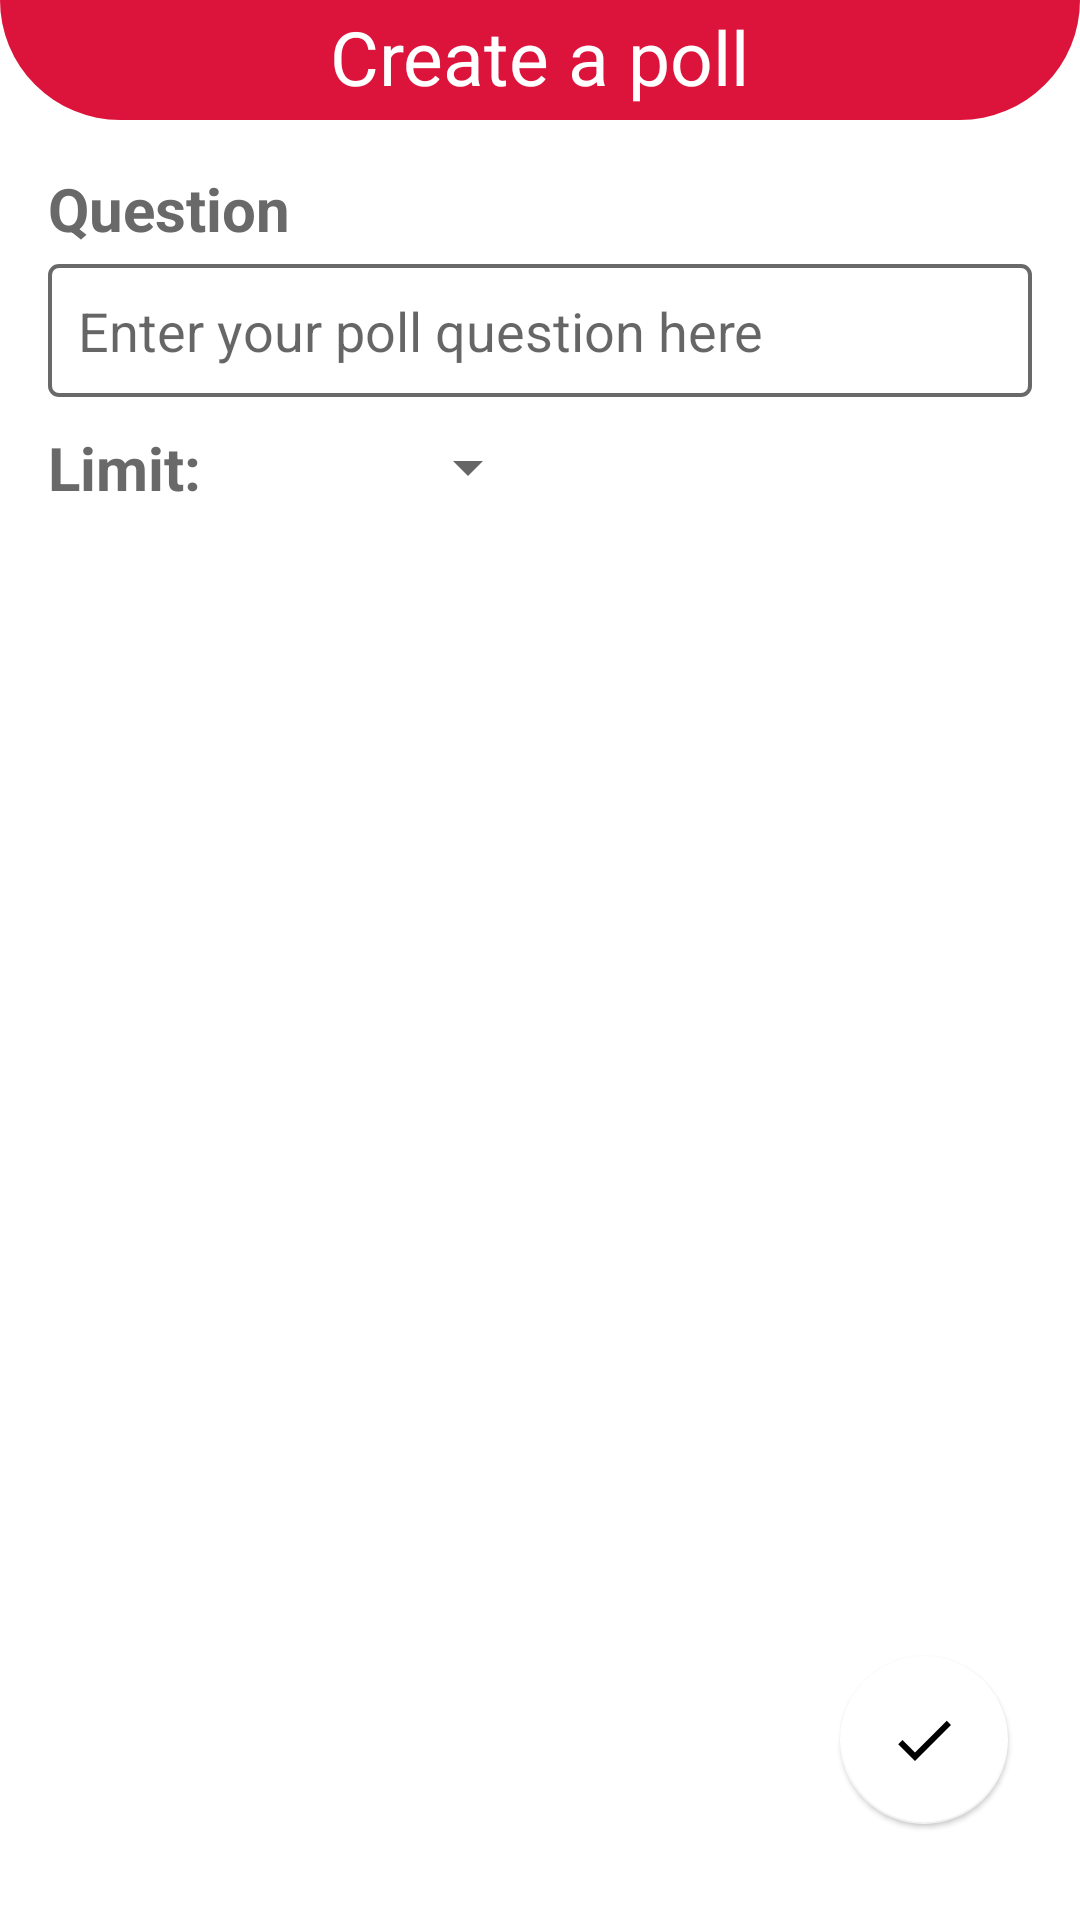

Where icons sit on this 1080px×1920px app screen, as (x1, y1, x2, y2):
check: (850, 1721, 1008, 1824)
